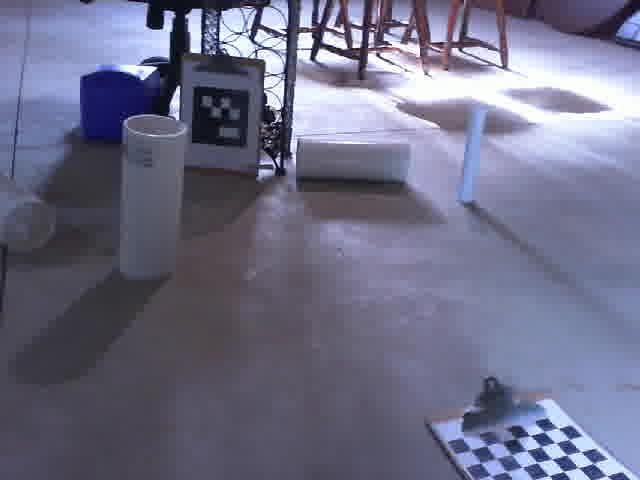coral: (120, 113, 188, 281), (295, 137, 411, 187), (0, 165, 57, 257)
